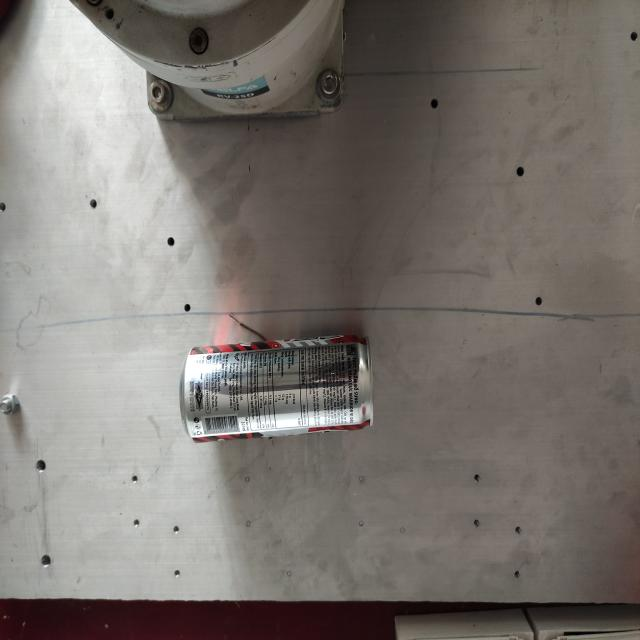metal: (178, 334, 372, 443)
